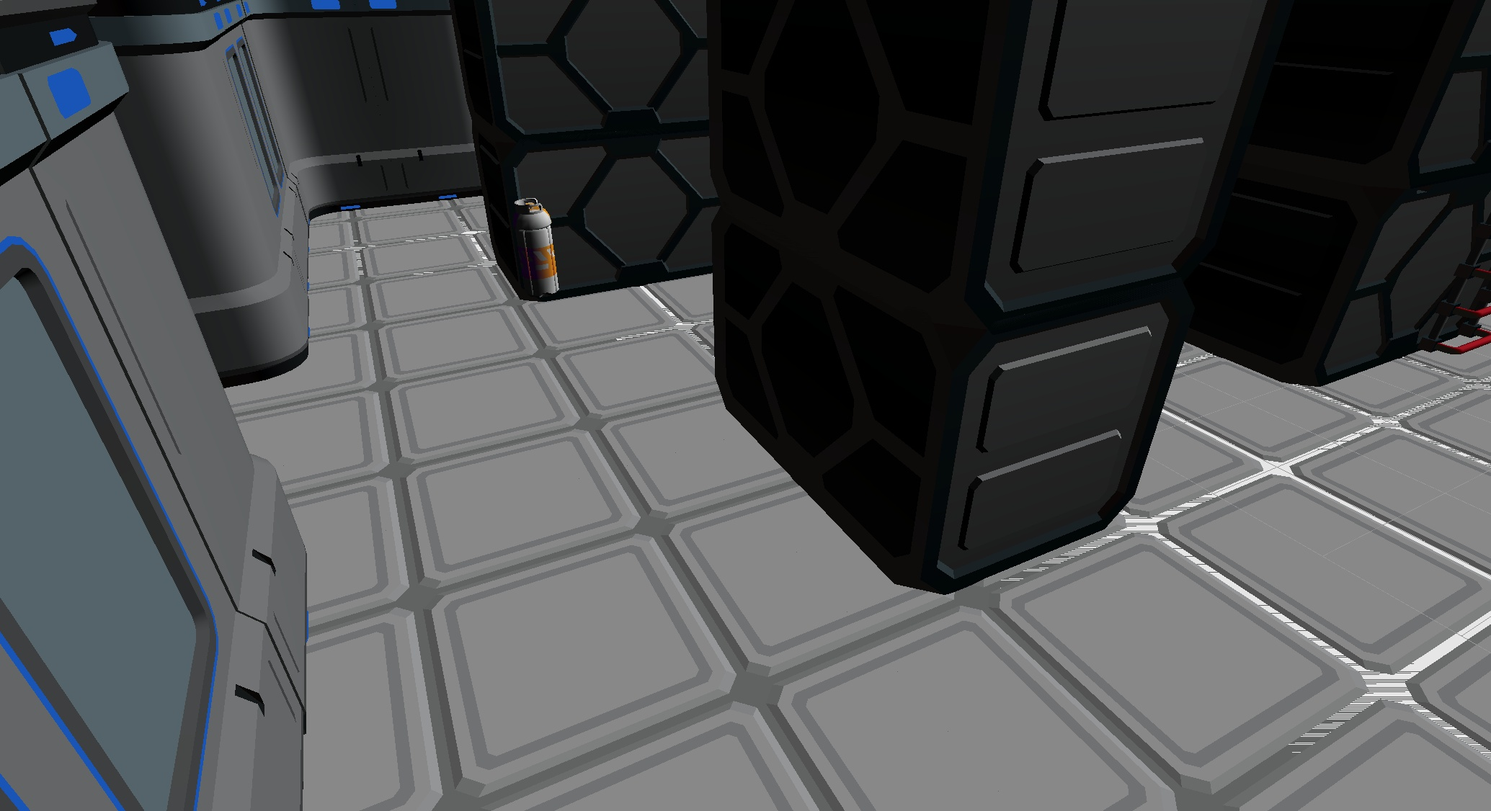yellow_barrel: (513, 197, 558, 300)
